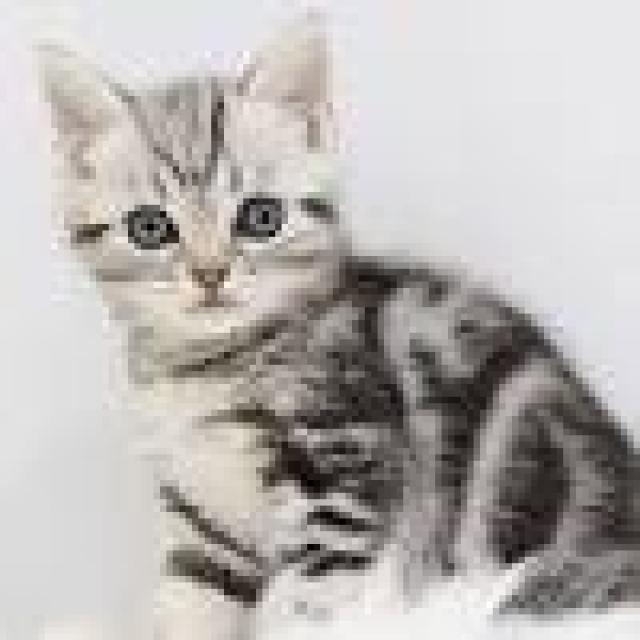cat-face: (18, 14, 367, 329)
